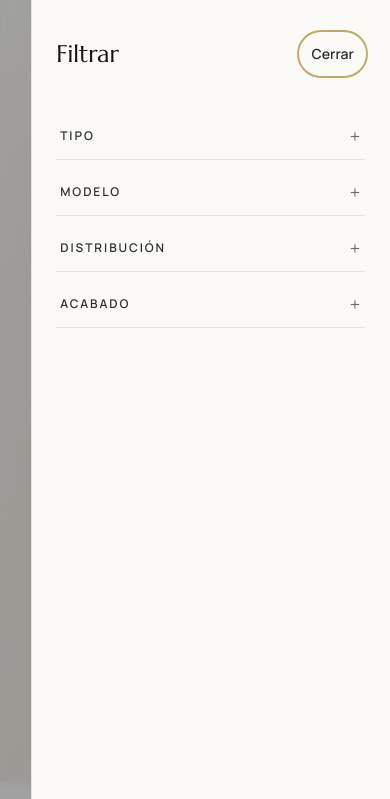
Test: CatalogFilterPanel › orders Mamparas facets and exposes every API option
This screenshot has width=390, height=799.
Step 1. Click the button "Distribución +" → (113, 247), box top-left (56, 224), bottom-right (366, 272)
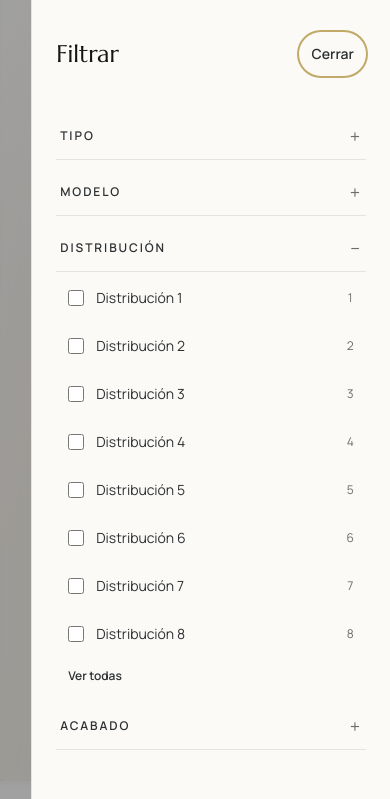
Check: the checkbox labelled "Distribución 9" is not shown
Step 2. Click the button "Ver todas" → (95, 672), box top-left (60, 660), bottom-right (130, 684)
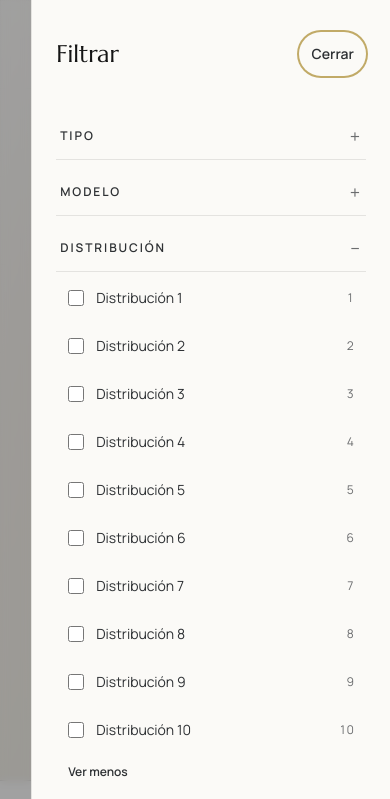
Check: the checkbox labelled "Distribución 9 9" is shown, box top-left (68, 674), bottom-right (84, 690)
Check: the button "Ver menos" is shown, box top-left (60, 756), bottom-right (136, 780)
